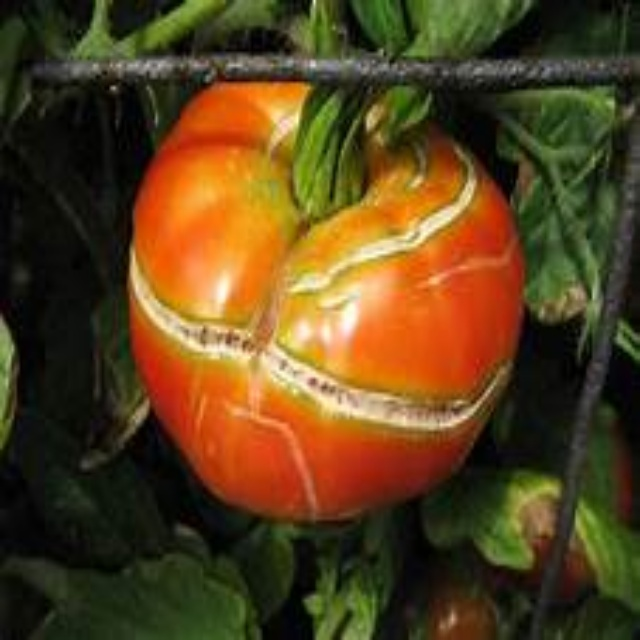tomato: (148, 76, 522, 522)
